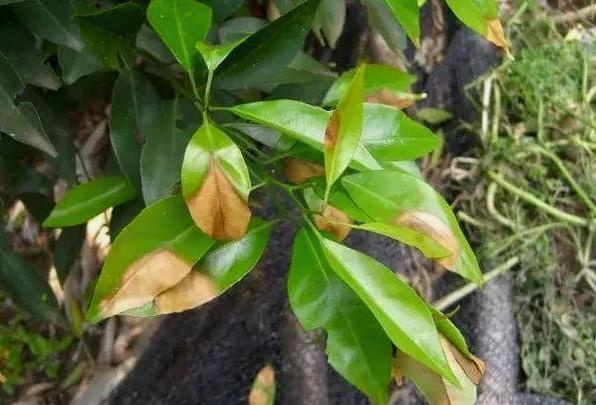Anthracnose: (281, 77, 467, 291), (81, 238, 221, 324), (177, 151, 269, 243)
